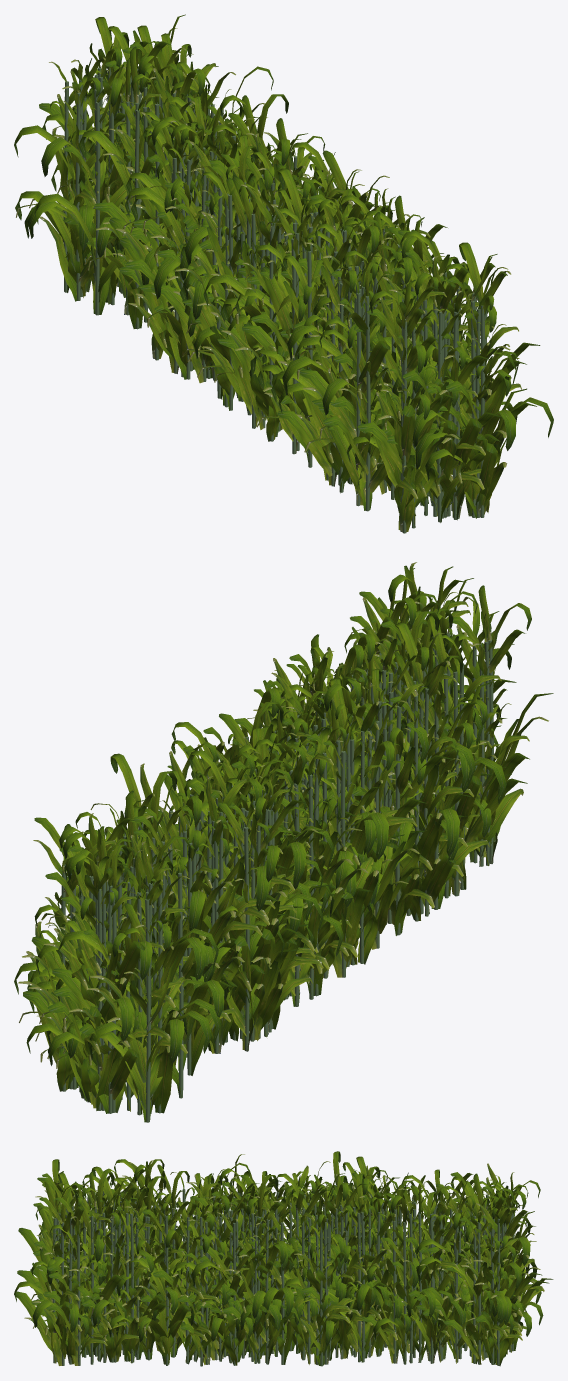
The model's file is milharal4x25_denso2.fbx.
3 renders of one model, top to bottom at view 1: azimuth 30°, elevation 25°; view 2: azimuth 150°, elevation 25°; view 3: azimuth 270°, elevation 25°, orthographic. The views are drawn at different scales.
Parts seen in each view (by area): view 1: Plantacao2; view 2: Plantacao2; view 3: Plantacao2.
Boxes of the visible parts, x1,y1,x2,y2 form: Plantacao2: (14, 14, 553, 533); Plantacao2: (14, 562, 553, 1122); Plantacao2: (14, 1151, 553, 1366).
Bounding box in the file's own units: 859 × 1105 × 2941.
